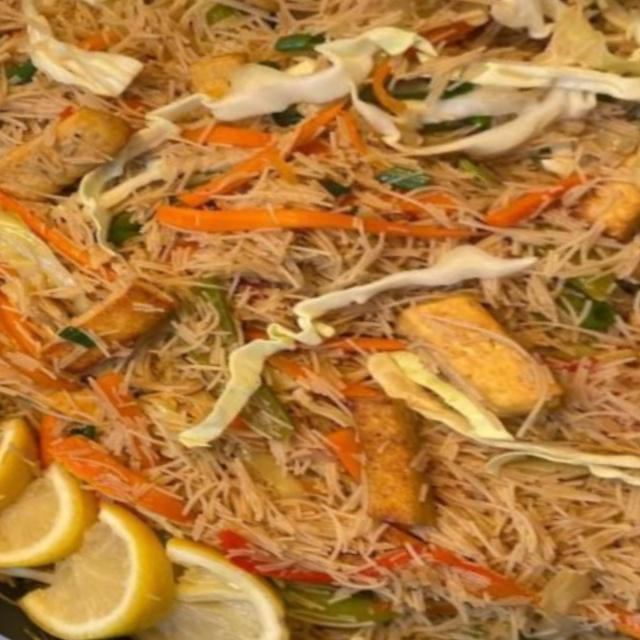pancit bihon: (0, 0, 639, 639)
